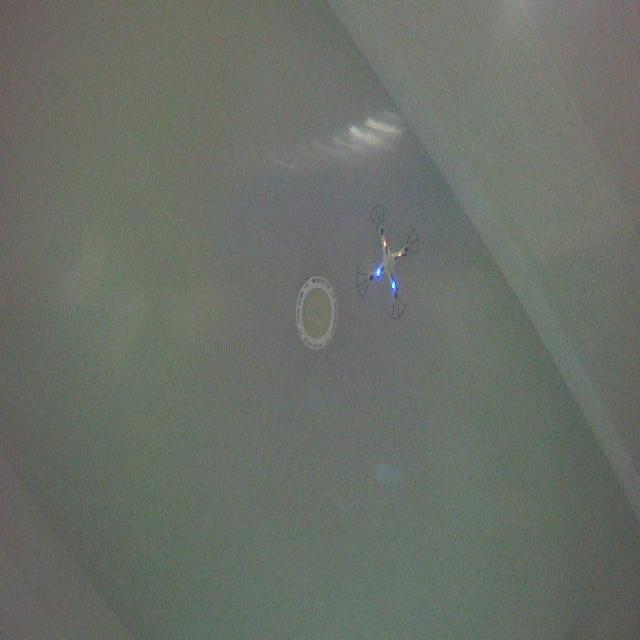drone: (354, 199, 422, 325)
